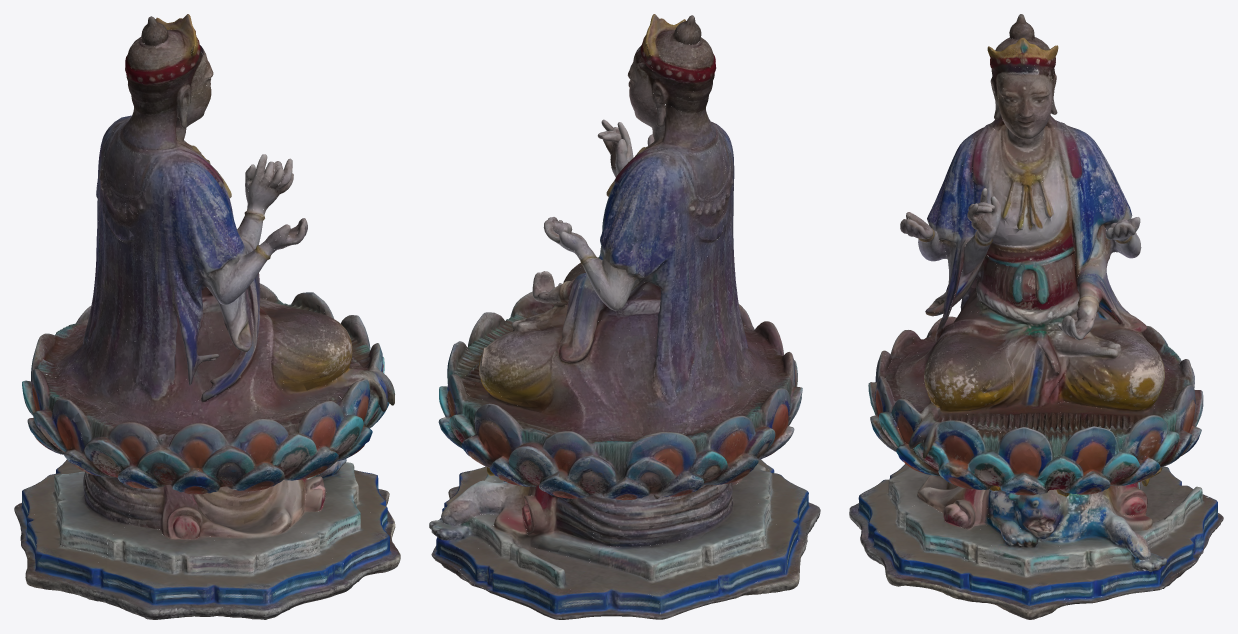
Rendered from f2-manjushri-lion.glb.
The picture shows the model from 3 angles, left to right: view 1: azimuth 30°, elevation 25°; view 2: azimuth 150°, elevation 25°; view 3: azimuth 270°, elevation 25°; orthographic projection. The views are drawn at different scales.
Visible parts, largest first — view 1: tripo_node_5d2160e0-8d14-4ac7-baf5-b61f2b786ed0; view 2: tripo_node_5d2160e0-8d14-4ac7-baf5-b61f2b786ed0; view 3: tripo_node_5d2160e0-8d14-4ac7-baf5-b61f2b786ed0.
Boxes of the visible parts, <box> form: tripo_node_5d2160e0-8d14-4ac7-baf5-b61f2b786ed0: <box>14,14,400,619</box>; tripo_node_5d2160e0-8d14-4ac7-baf5-b61f2b786ed0: <box>429,14,820,619</box>; tripo_node_5d2160e0-8d14-4ac7-baf5-b61f2b786ed0: <box>849,14,1223,619</box>.
Bounding box in the file's own units: 0.6318 × 1 × 0.627.
Materials: 1 (1 with a texture image).
